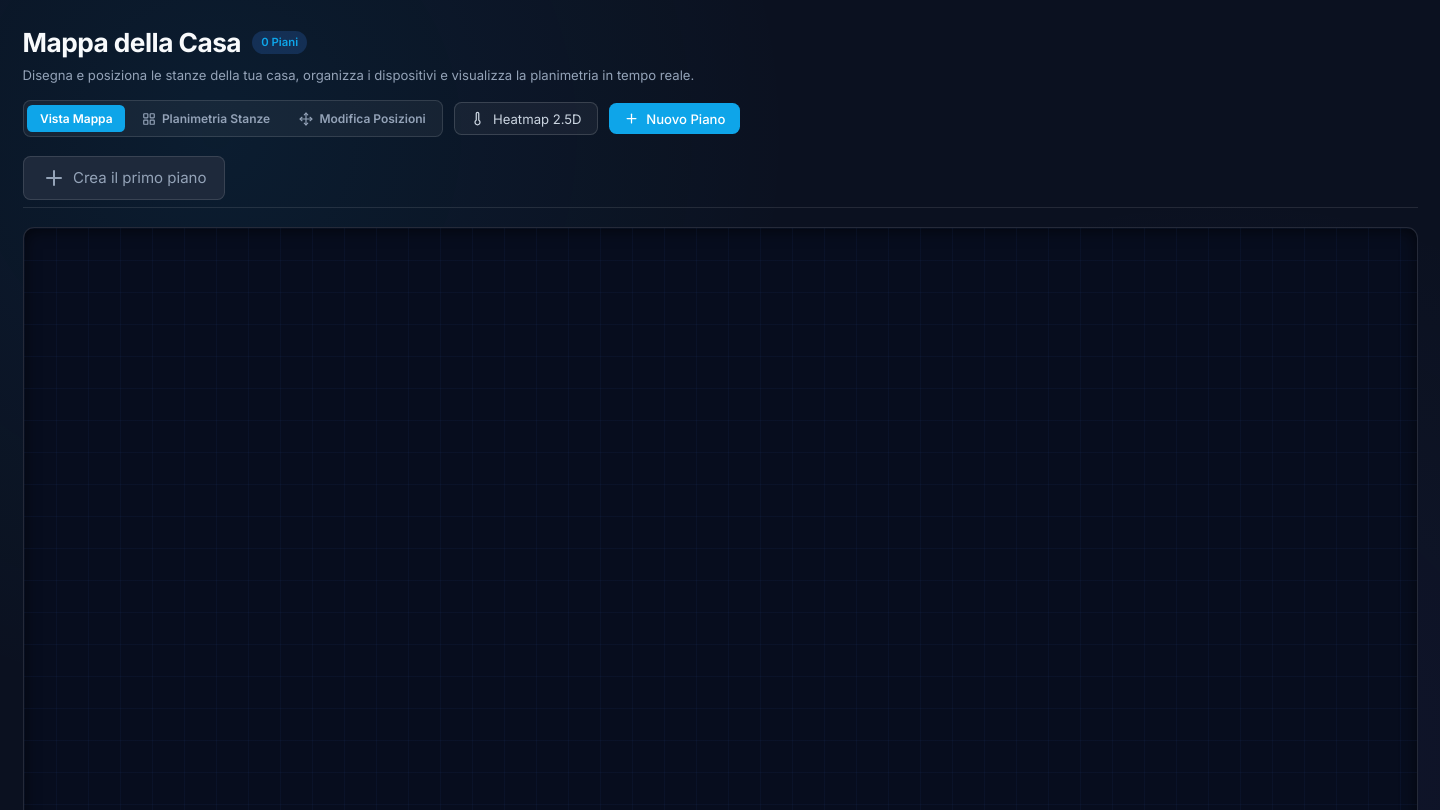
Test: FloorplanView.vue › toggles edit mode when button is clicked
Click the button with class "btn-mode" at [363, 119], box [287,105,438,132]
(page scrolled)
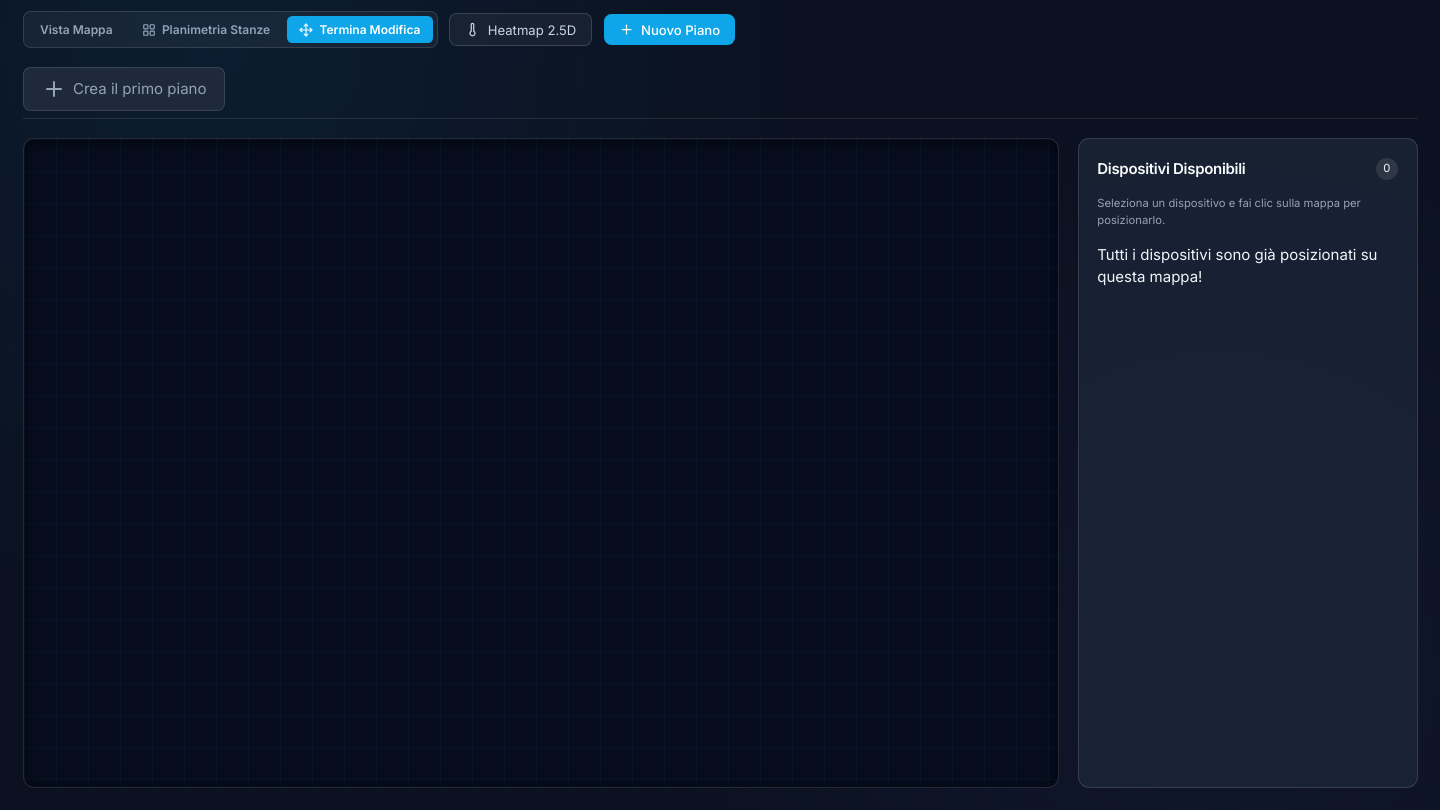
Result: the button with class "btn-mode" reads "Termina Modifica" at [287,16,433,43]
Result: the element with class "edit-sidebar" is shown at [1078,138,1418,788]
